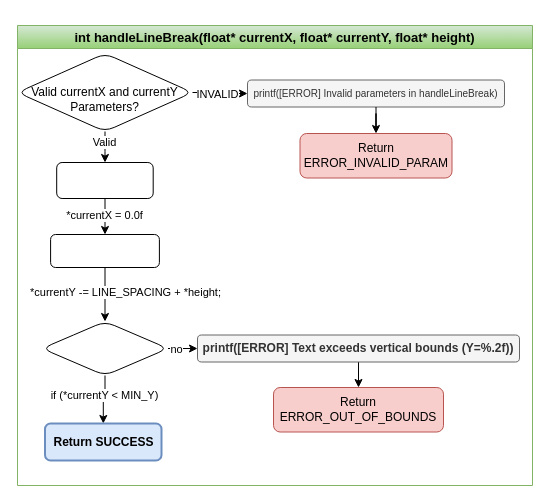
The diagram is 550 pixels wide and 503 high, and some of its shapes have lost their labels. Here are the shapes that lost their labels. From the top down, the centre of each, then its label:
the point at 104,180: Reset X Position
the point at 104,251: Move Y Position
the point at 104,348: Valid Y Position?
